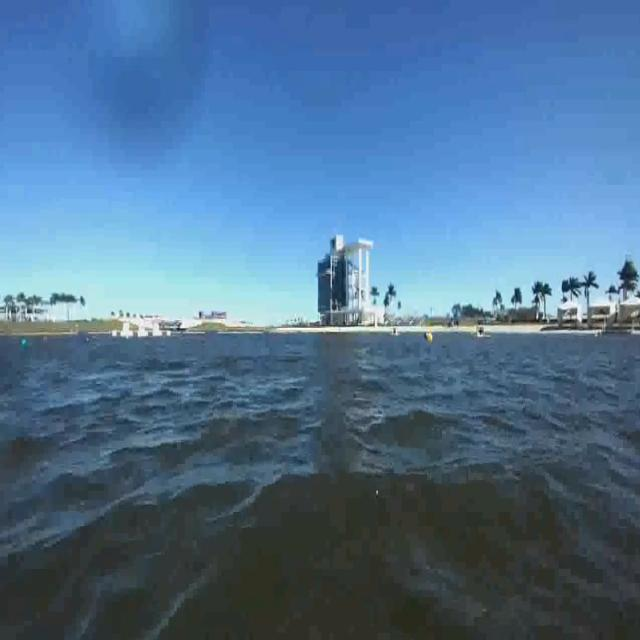green-buoy: (20, 340, 27, 349)
yellow-buoy: (427, 333, 434, 346)
